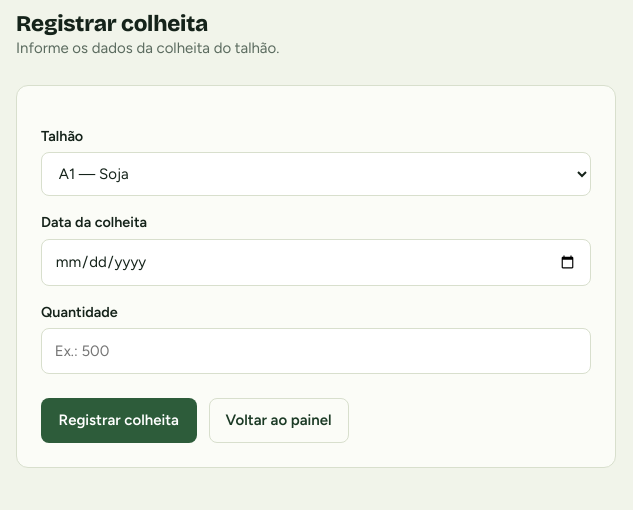
RegistrarColheita - UI03 › impede o registro com quantidade inválida: 0
Check: the dropdown labelled "Talhão" is shown, box [41, 152, 591, 196]
Type "2026-11-26" into the date field labelled "Data da colheita".
click(316, 262); type("2026-11-26")  # box [41, 239, 591, 286]
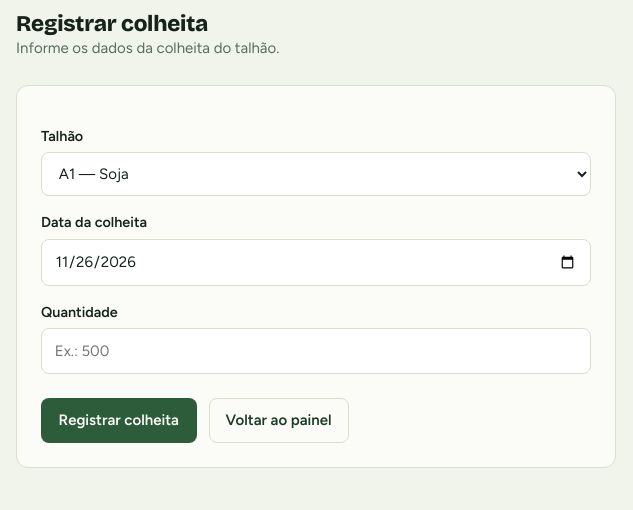
Type "0" into the number field labelled "Quantidade".
click(316, 351); type("0")  # box [41, 328, 591, 374]
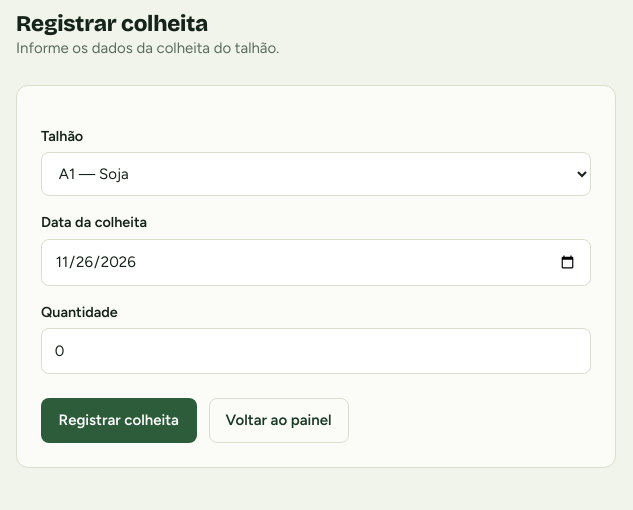
Click the button "Registrar colheita".
click(119, 420)  # box [41, 398, 196, 443]
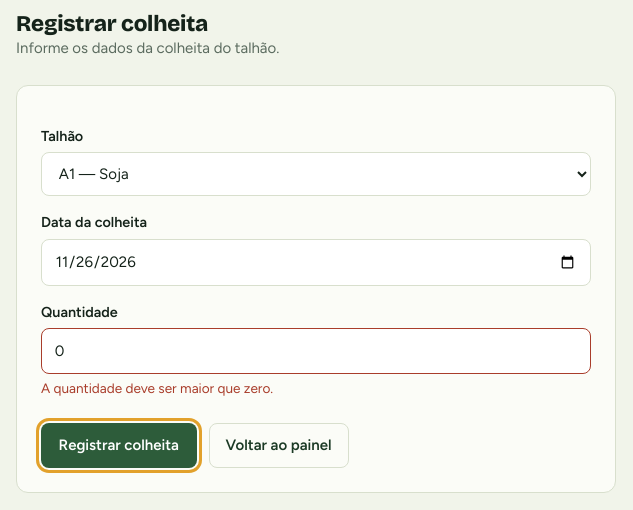
Check: the text "A quantidade deve ser maior que zero." is shown, box [41, 380, 273, 396]
